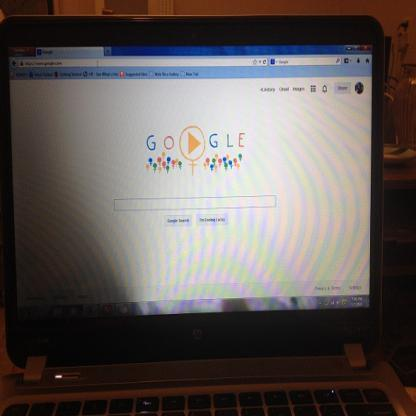fade: (8, 77, 165, 317)
